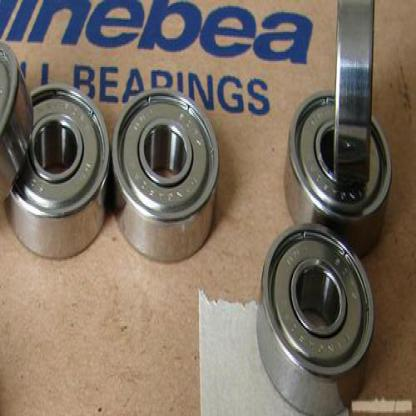FOD: (253, 219, 375, 414), (108, 88, 221, 264), (282, 84, 394, 254), (6, 84, 112, 251)
